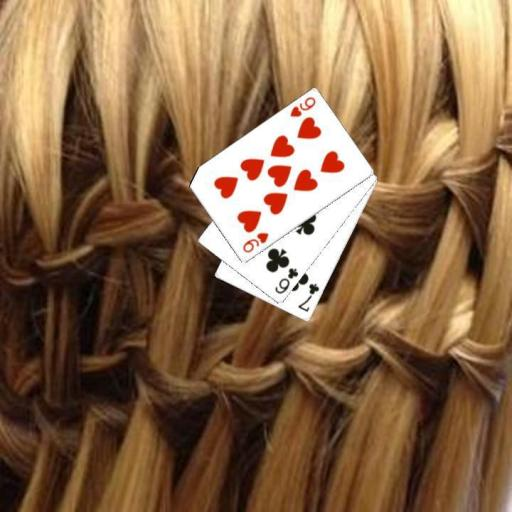card-corner: (294, 280, 321, 314), (272, 265, 300, 296), (287, 94, 317, 119), (239, 230, 270, 254)
